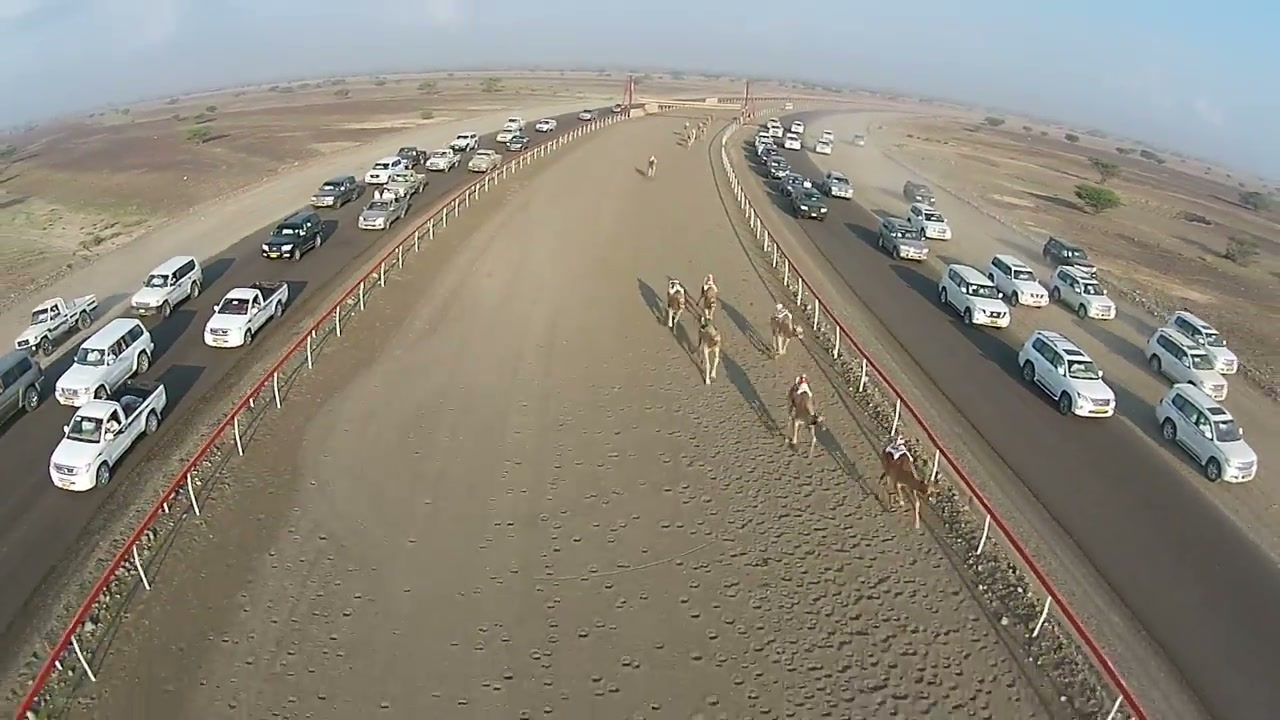animal_foot_print: (542, 391, 1010, 719)
